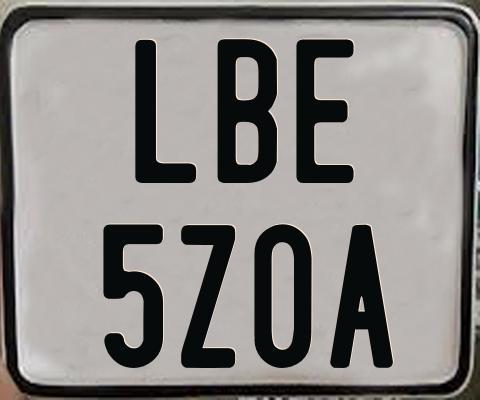0: (252, 223, 311, 368)
5: (100, 221, 160, 368)
A: (327, 223, 392, 370)
B: (216, 38, 276, 182)
E: (295, 37, 357, 185)
L: (132, 40, 199, 189)
Z: (181, 223, 237, 371)
